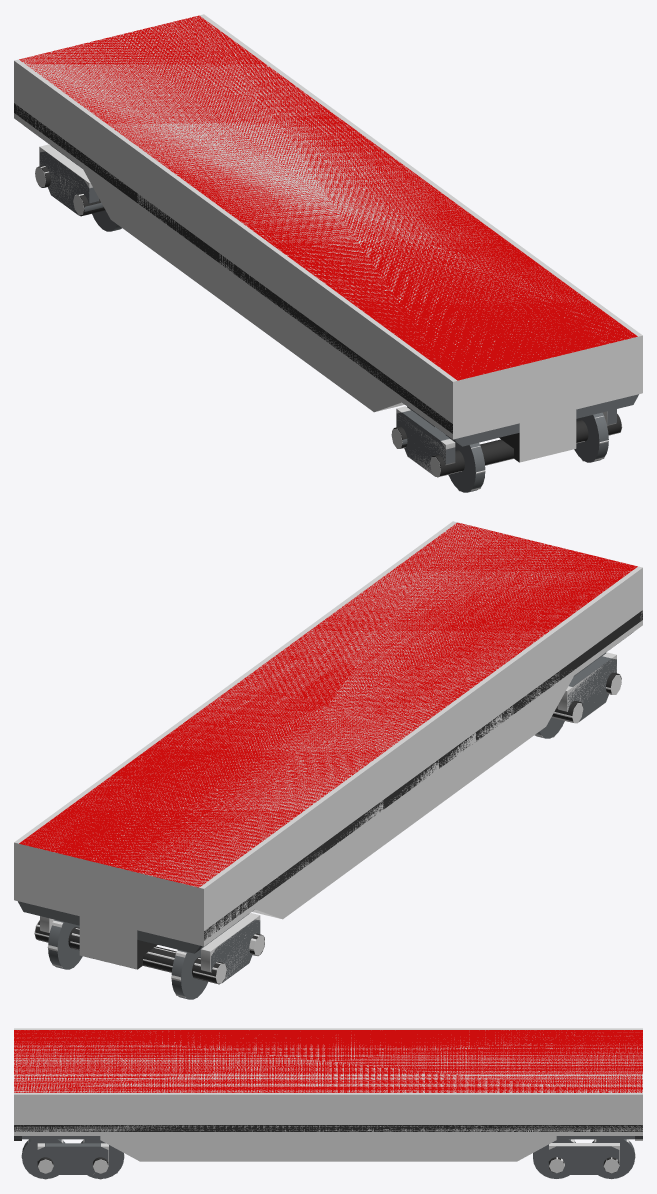
File: RedMetalmechLowTrainCarriage1.fbx
The picture shows the model from 3 angles, top to bottom: view 1: azimuth 30°, elevation 25°; view 2: azimuth 150°, elevation 25°; view 3: azimuth 270°, elevation 25°; orthographic projection. The views are drawn at different scales.
Parts seen in each view (by area): view 1: COLObject4, Cargo8x2x2, RedMetalMechLowTrainCarriage1, COLObject1, COLObject3, COLObject13; view 2: COLObject4, Cargo8x2x2, RedMetalMechLowTrainCarriage1, COLObject1, COLObject2, COLObject13; view 3: COLObject4, Cargo8x2x2, COLObject1, RedMetalMechLowTrainCarriage1, COLObject14.
Part boxes in pixels (x1,y1,x2,y2): COLObject4: (14,14,642,439); Cargo8x2x2: (19,15,637,380); RedMetalMechLowTrainCarriage1: (14,103,638,492); COLObject1: (83,169,404,412); COLObject3: (519,409,576,462); COLObject13: (39,144,92,205); COLObject4: (14,521,642,946); Cargo8x2x2: (19,522,637,887); RedMetalMechLowTrainCarriage1: (18,610,642,999); COLObject1: (252,676,573,919); COLObject2: (79,916,137,969); COLObject13: (201,913,260,980); COLObject4: (14,1028,642,1135); Cargo8x2x2: (14,1030,642,1092); COLObject1: (100,1136,556,1161); RedMetalMechLowTrainCarriage1: (14,1125,642,1178); COLObject14: (549,1143,619,1160).
Bounding box in the file's own units: 200 × 133 × 800.
